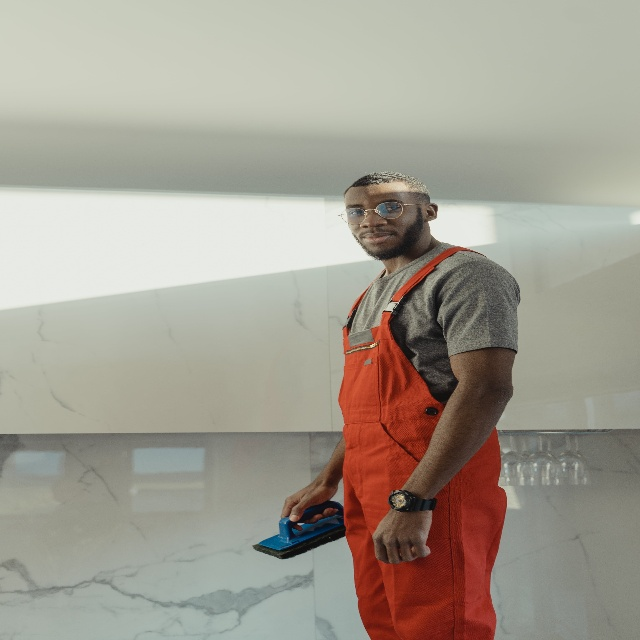Gafas: (338, 201, 426, 225)
Sin_guantes: (280, 473, 338, 532), (372, 508, 432, 565)
